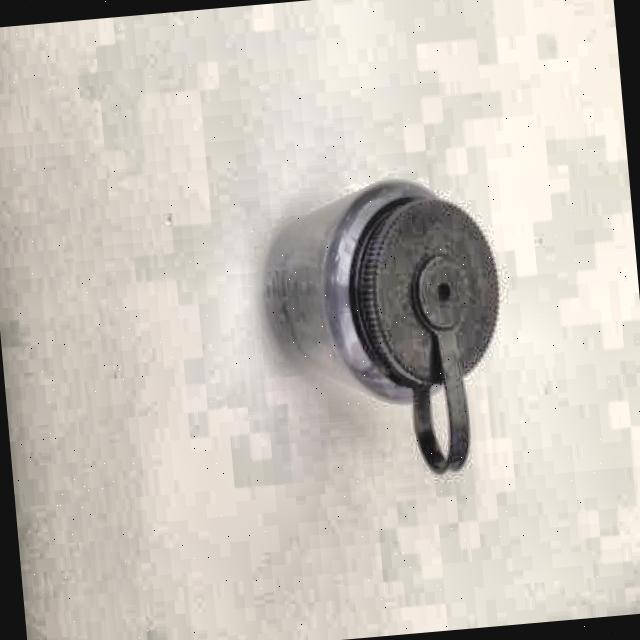plastic: (315, 171, 513, 450)
